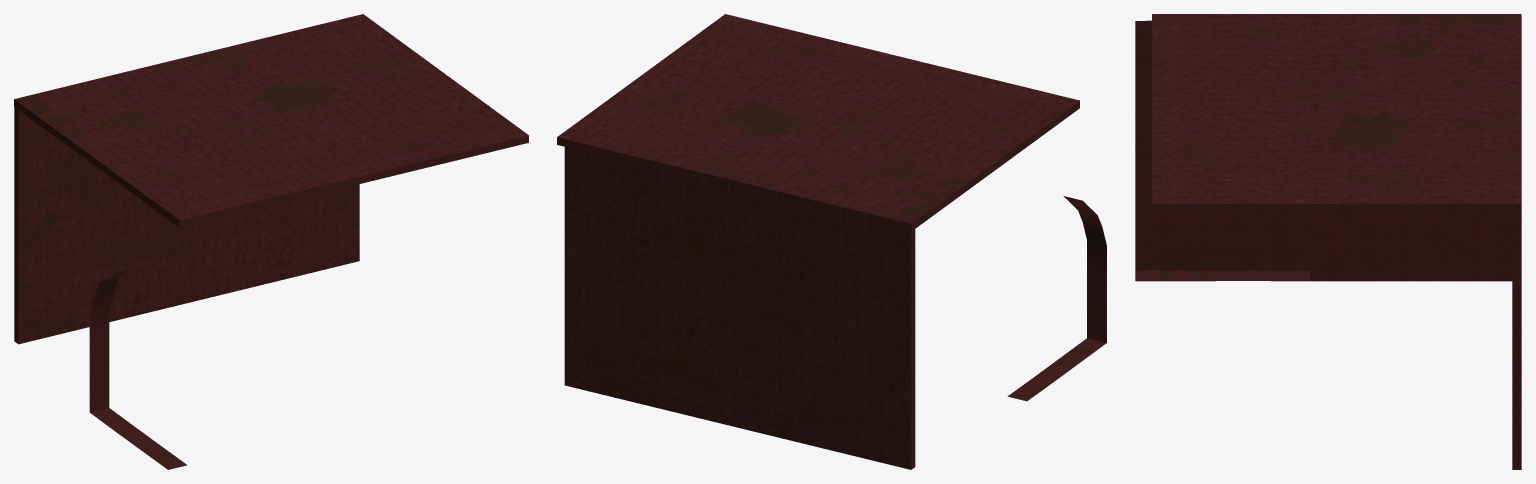
File: ParedesCuarto_Camerino.fbx
The picture shows the model from 3 angles, left to right: view 1: azimuth 30°, elevation 25°; view 2: azimuth 150°, elevation 25°; view 3: azimuth 270°, elevation 25°; orthographic projection. The views are drawn at different scales.
Visible parts, largest first — view 1: TechoCamerino, ParedFondoCamerino, ParedPueurta; view 2: ParedFondoCamerino, TechoCamerino, ParedPueurta; view 3: TechoCamerino, ParedPueurta, ParedFondoCamerino.
Part boxes in pixels (x1,y1,x2,y2): TechoCamerino: (14, 14, 528, 227); ParedFondoCamerino: (14, 107, 359, 344); ParedPueurta: (89, 269, 187, 469); ParedFondoCamerino: (564, 139, 915, 469); TechoCamerino: (557, 14, 1079, 231); ParedPueurta: (1007, 196, 1106, 401); TechoCamerino: (1152, 14, 1520, 212); ParedPueurta: (1135, 20, 1512, 281); ParedFondoCamerino: (1512, 14, 1521, 469).
Size of the model in its own units: 1040 by 652 by 845.
Materials: 1 (1 with a texture image).
